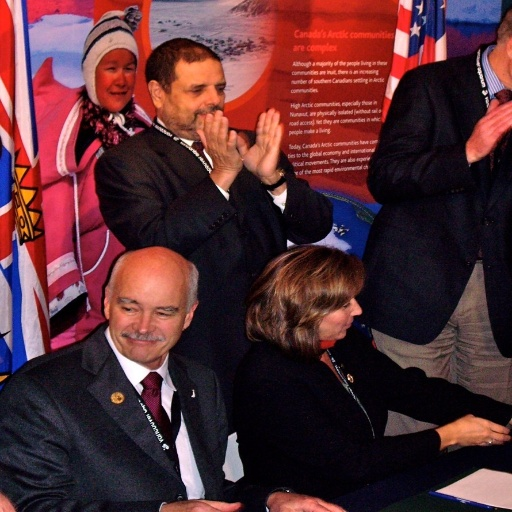hand: (440, 404, 501, 463), (235, 106, 284, 177), (192, 108, 243, 175), (466, 96, 510, 163), (266, 490, 344, 511), (159, 500, 242, 511)
